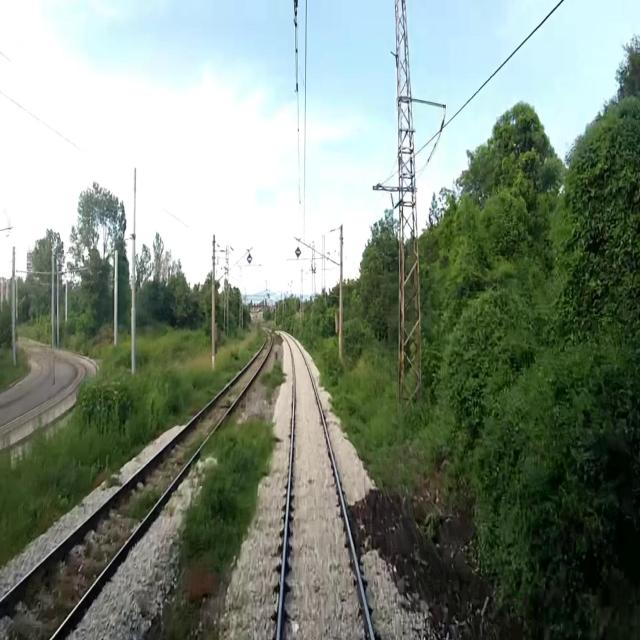rail-track: (0, 332, 270, 639), (281, 338, 370, 639)
